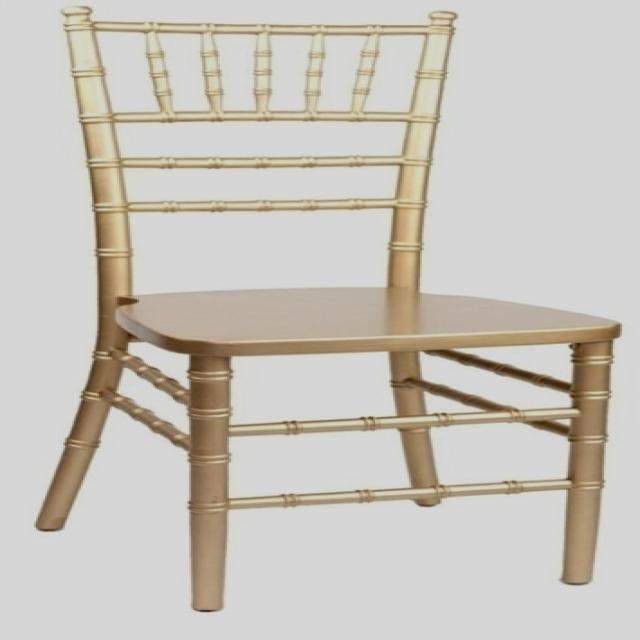Chair: (30, 6, 640, 617)
